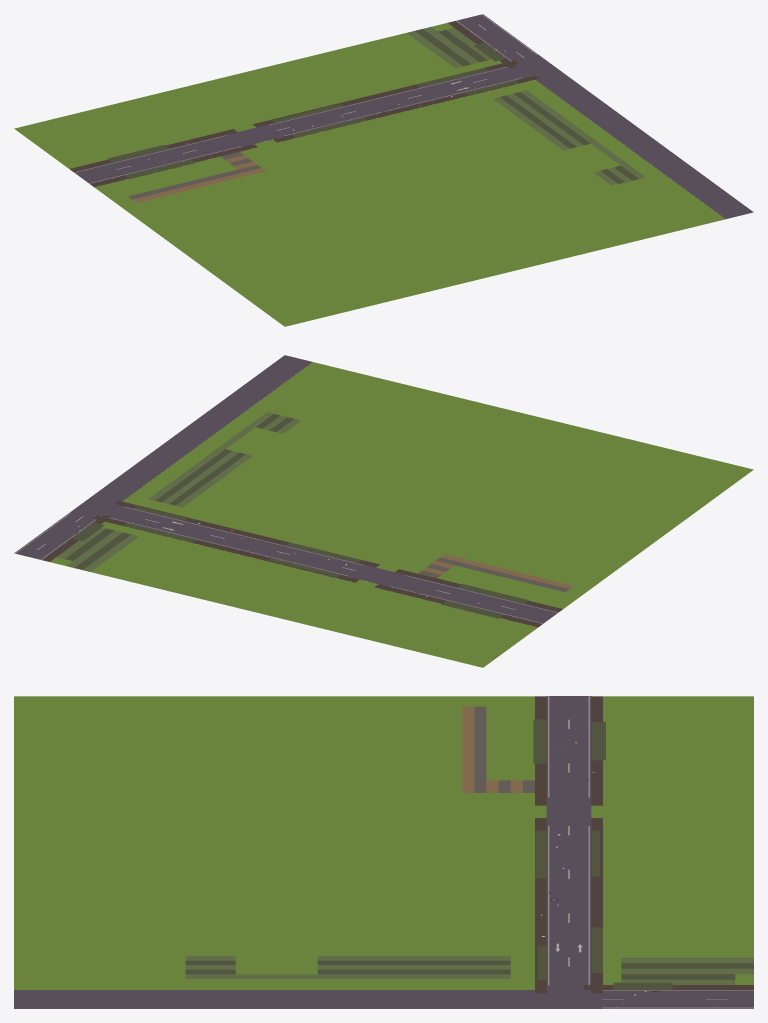
The model's file is cure-13-2.glb.
3 renders of one model, top to bottom at view 1: azimuth 30°, elevation 25°; view 2: azimuth 150°, elevation 25°; view 3: azimuth 270°, elevation 25°, orthographic. The views are drawn at different scales.
Visible parts, largest first — view 1: cure-13-2; view 2: cure-13-2; view 3: cure-13-2.
Boxes of the visible parts, <box> form: cure-13-2: <box>14,14,753,326</box>; cure-13-2: <box>14,355,753,667</box>; cure-13-2: <box>14,696,753,1008</box>.
Bounding box in the file's own units: 100 × 0.017 × 100.
